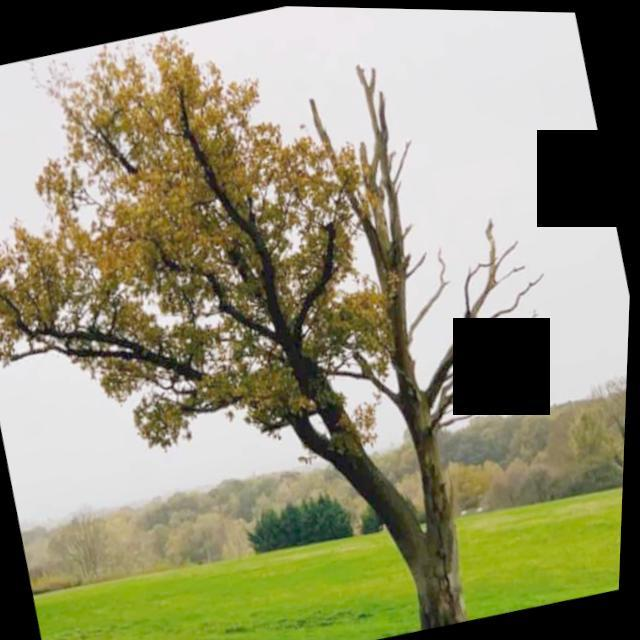Tree: (1, 1, 640, 640), (246, 473, 363, 560), (541, 382, 630, 496), (507, 399, 589, 511), (457, 404, 531, 510), (578, 362, 631, 488), (438, 414, 503, 513), (166, 479, 234, 569), (493, 405, 556, 501), (168, 502, 251, 572), (54, 505, 126, 584), (98, 497, 160, 584), (567, 398, 627, 486), (134, 491, 196, 574), (210, 471, 270, 554), (23, 519, 72, 600), (442, 450, 494, 517), (478, 463, 527, 512), (525, 451, 568, 505), (504, 449, 545, 505), (150, 510, 185, 567), (357, 492, 393, 543)
